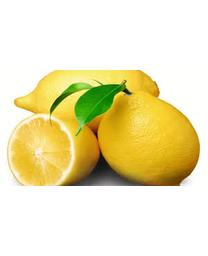lemon: (99, 90, 200, 181), (8, 114, 100, 184)
